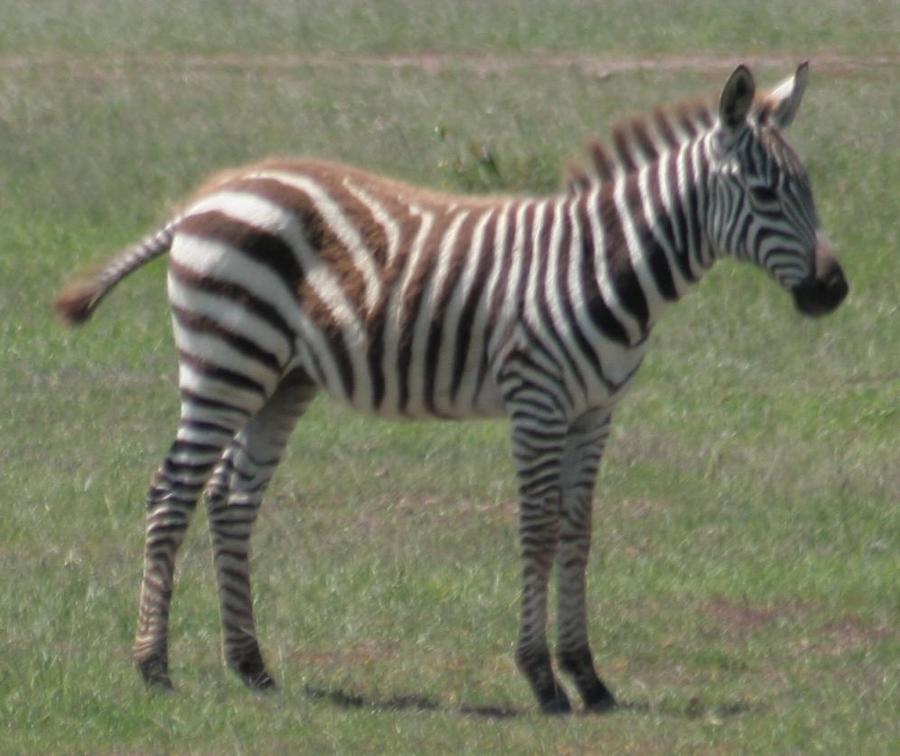zebra_plains: (107, 105, 683, 485)
